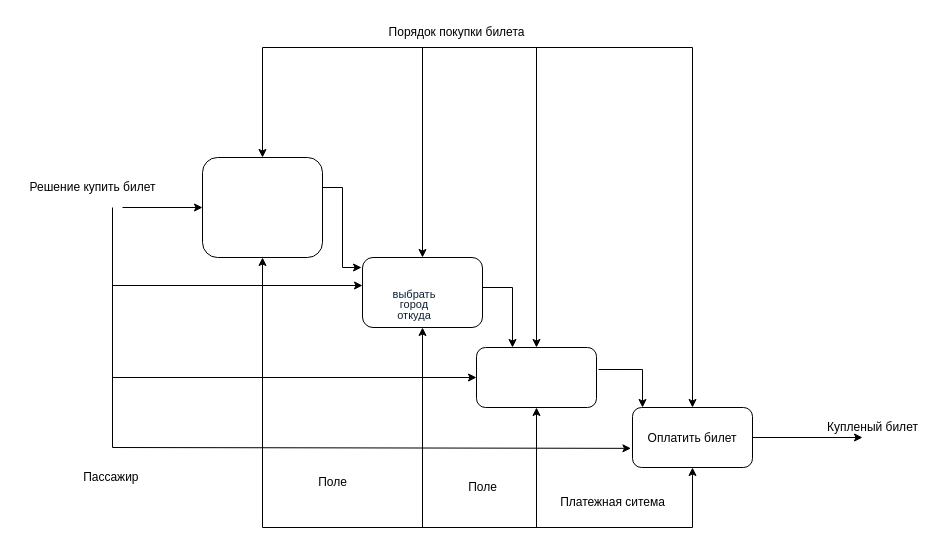
This 944x554 diagram has some shape labels left out. Each missing label, with the centre of its shape:
выбрать город куда: the point at 536,377
выбрать дату: the point at 262,207
